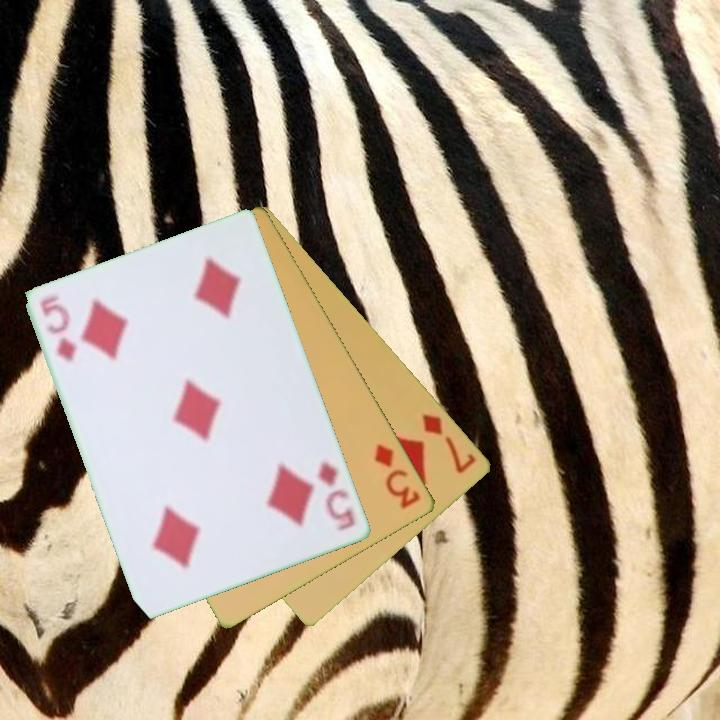3d: (371, 440, 425, 512)
5d: (315, 458, 359, 535), (37, 293, 81, 364)
7d: (419, 410, 480, 476)
